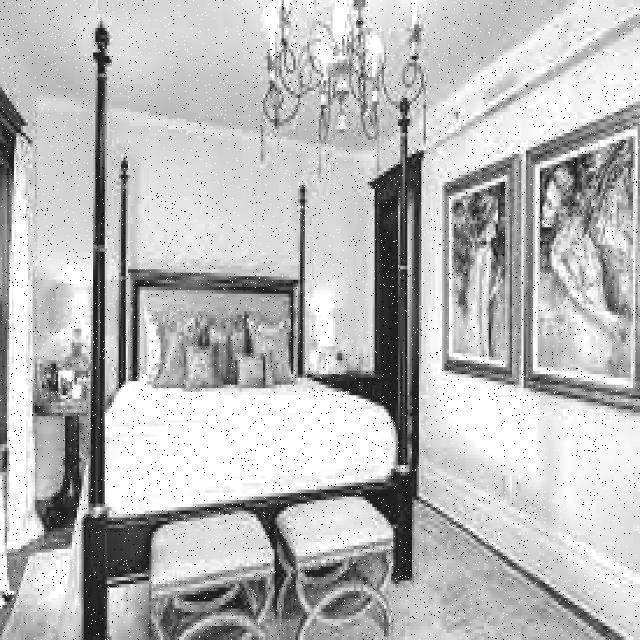bed: (103, 312, 390, 480)
